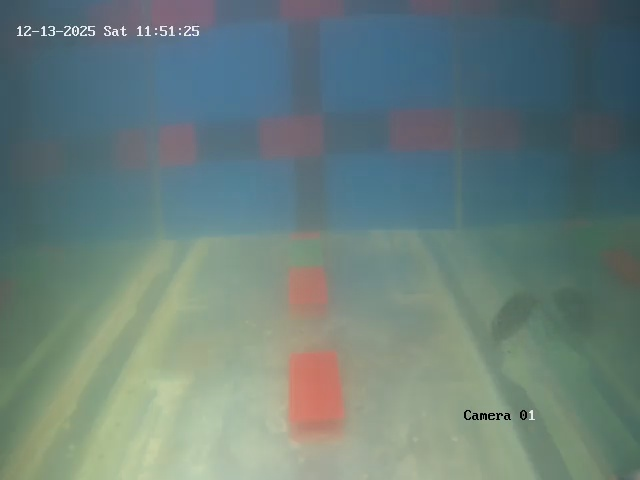fish: (484, 286, 549, 342)
